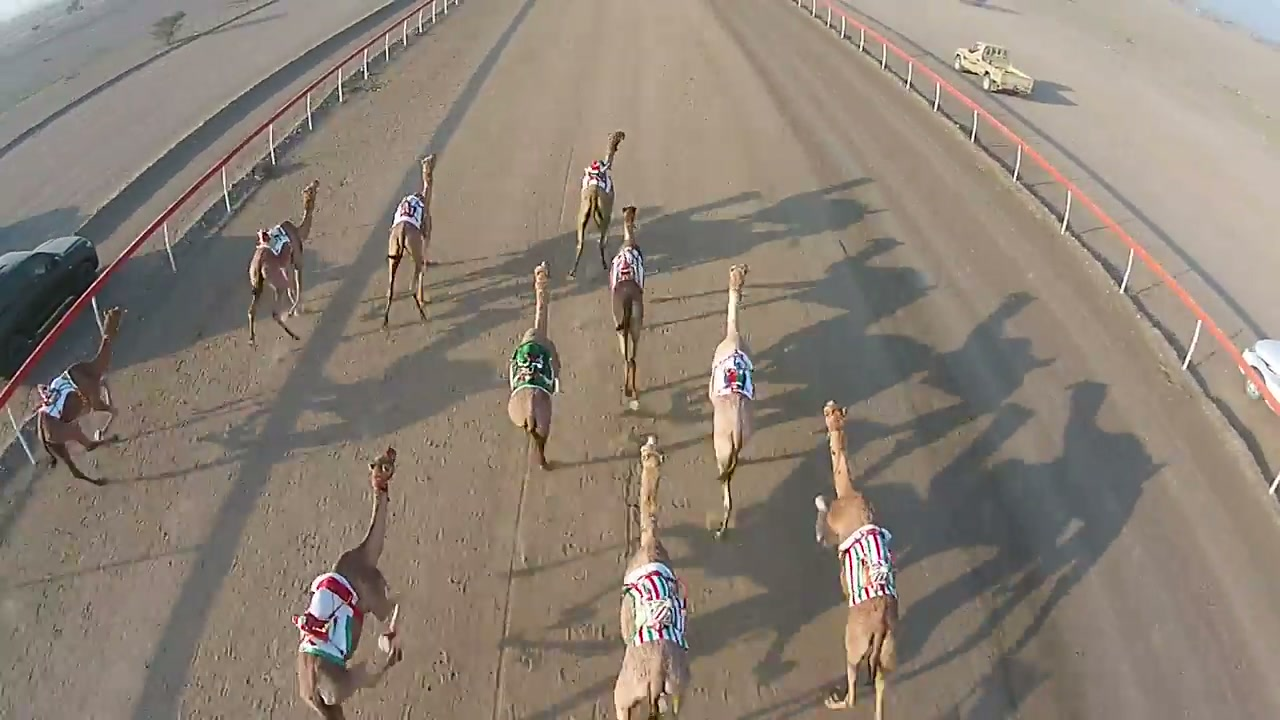animal_footprint: (500, 373, 640, 719), (397, 402, 511, 719)
